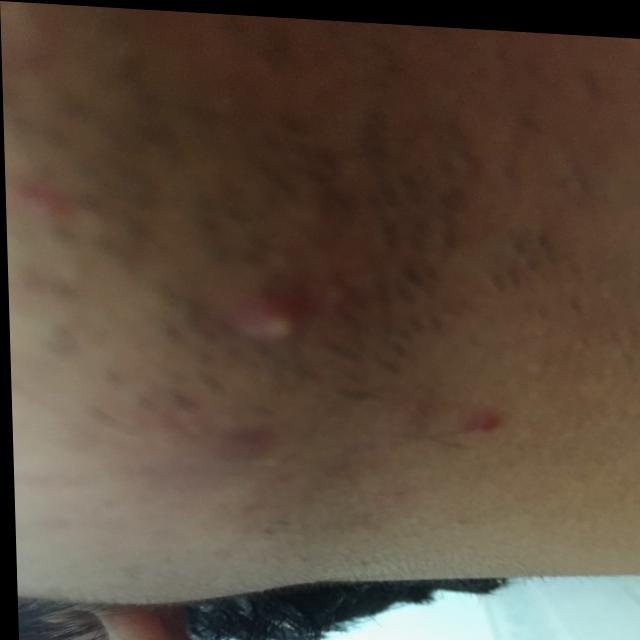blackheads: (209, 270, 325, 361)
